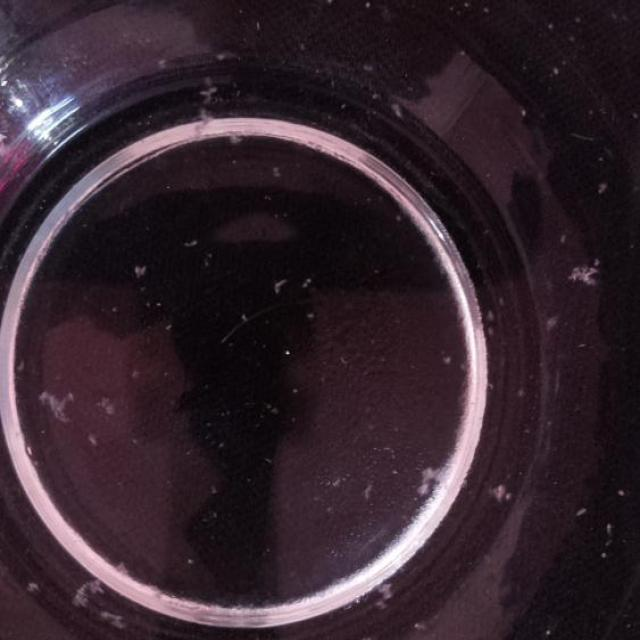fiber: (34, 385, 79, 430), (414, 453, 449, 500), (70, 575, 104, 610), (192, 69, 225, 100), (568, 260, 602, 290), (93, 394, 123, 422), (375, 572, 398, 607), (386, 93, 410, 124), (322, 471, 349, 498), (194, 105, 218, 135), (539, 311, 564, 339), (97, 609, 127, 632), (183, 229, 207, 256), (224, 125, 249, 150), (267, 161, 291, 186), (492, 479, 515, 505), (270, 274, 288, 306), (357, 476, 378, 500), (86, 423, 106, 447), (125, 362, 147, 383), (131, 260, 149, 284), (24, 576, 44, 596), (110, 558, 131, 577), (297, 273, 315, 292), (516, 381, 532, 402), (357, 629, 389, 639), (438, 347, 452, 369), (596, 181, 615, 196), (558, 228, 571, 248), (482, 308, 498, 324), (324, 0, 343, 11), (362, 61, 376, 72)
